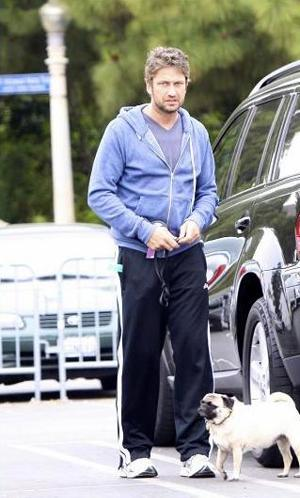person: (88, 48, 220, 482)
